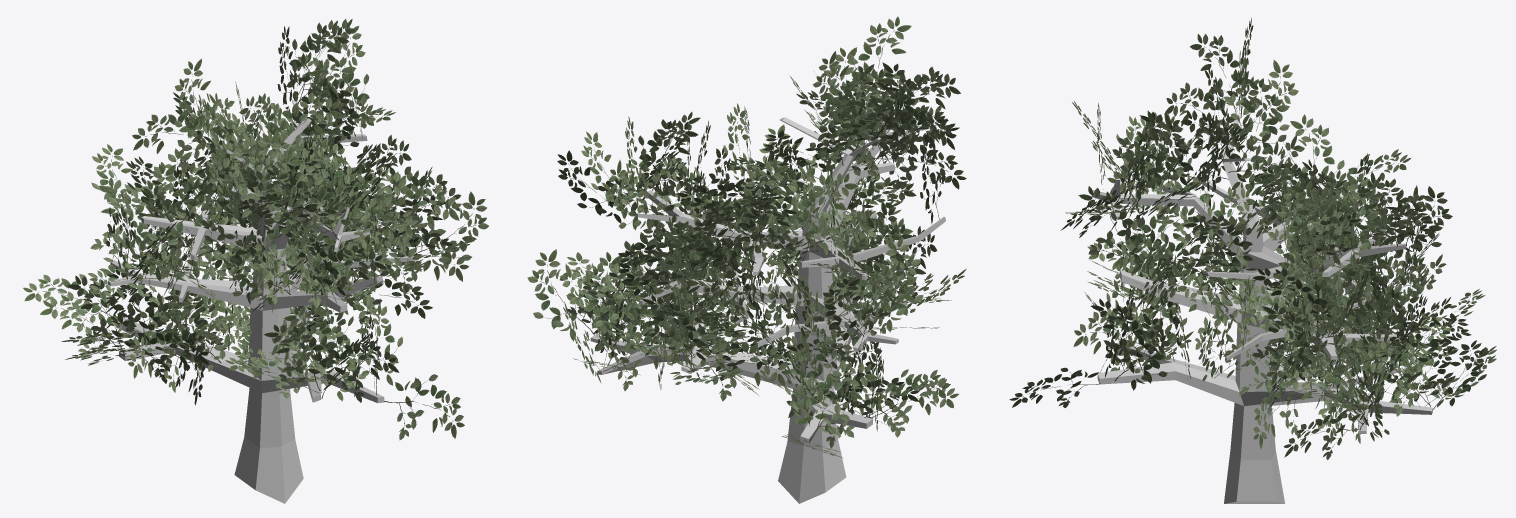
File: tree4GProps.fbx
3 renders of one model, left to right at view 1: azimuth 30°, elevation 25°; view 2: azimuth 150°, elevation 25°; view 3: azimuth 270°, elevation 25°, orthographic.
Parts seen in each view (by area): view 1: Cube.042, Cube.042|Empty.001|Dupli|158, Cube.042|Empty.001|Dupli|120, Cube.042|Empty.001|Dupli|165, Cube.042|Empty.001|Dupli|152, Cube.042|Empty.001|Dupli|56, Cube.042|Empty.001|Dupli|112, Cube.042|Empty.001|Dupli|162, Cube.042|Empty.001|Dupli|19, Cube.042|Empty.001|Dupli|212, Cube.042|Empty.001|Dupli|123, Cube.042|Empty.001|Dupli|51 (+64 smaller); view 2: Cube.042, Cube.042|Empty.001|Dupli|132, Cube.042|Empty.001|Dupli|210, Cube.042|Empty.001|Dupli|204, Cube.042|Empty.001|Dupli|74, Cube.042|Empty.001|Dupli|189, Cube.042|Empty.001|Dupli|149, Cube.042|Empty.001|Dupli|159, Cube.042|Empty.001|Dupli|148, Cube.042|Empty.001|Dupli|180, Cube.042|Empty.001|Dupli|125, Cube.042|Empty.001|Dupli|169 (+72 smaller); view 3: Cube.042, Cube.042|Empty.001|Dupli|171, Cube.042|Empty.001|Dupli|111, Cube.042|Empty.001|Dupli|173, Cube.042|Empty.001|Dupli|161, Cube.042|Empty.001|Dupli|122, Cube.042|Empty.001|Dupli|116, Cube.042|Empty.001|Dupli|81, Cube.042|Empty.001|Dupli|166, Cube.042|Empty.001|Dupli|164, Cube.042|Empty.001|Dupli|174, Cube.042|Empty.001|Dupli|195 (+57 smaller).
Part boxes in pixels (x1,y1,x2,y2): Cube.042: (107,100,418,503); Cube.042|Empty.001|Dupli|158: (366,179,461,254); Cube.042|Empty.001|Dupli|120: (384,374,464,440); Cube.042|Empty.001|Dupli|165: (132,105,221,173); Cube.042|Empty.001|Dupli|152: (412,191,488,271); Cube.042|Empty.001|Dupli|56: (263,324,337,392); Cube.042|Empty.001|Dupli|112: (277,178,351,248); Cube.042|Empty.001|Dupli|162: (263,92,344,170); Cube.042|Empty.001|Dupli|19: (140,211,225,277); Cube.042|Empty.001|Dupli|212: (197,205,277,268); Cube.042|Empty.001|Dupli|123: (347,296,402,395); Cube.042|Empty.001|Dupli|51: (40,291,130,358); Cube.042: (590,110,945,503); Cube.042|Empty.001|Dupli|132: (796,360,878,442); Cube.042|Empty.001|Dupli|210: (789,173,858,261); Cube.042|Empty.001|Dupli|204: (693,332,791,401); Cube.042|Empty.001|Dupli|74: (849,238,923,332); Cube.042|Empty.001|Dupli|189: (527,249,600,341); Cube.042|Empty.001|Dupli|149: (559,263,639,326); Cube.042|Empty.001|Dupli|159: (854,62,920,142); Cube.042|Empty.001|Dupli|148: (624,214,687,296); Cube.042|Empty.001|Dupli|180: (729,158,798,256); Cube.042|Empty.001|Dupli|125: (864,369,950,432); Cube.042|Empty.001|Dupli|169: (607,159,662,231); Cube.042: (1091,115,1432,503); Cube.042|Empty.001|Dupli|171: (1288,178,1348,271); Cube.042|Empty.001|Dupli|111: (1117,113,1188,191); Cube.042|Empty.001|Dupli|173: (1311,173,1385,267); Cube.042|Empty.001|Dupli|161: (1217,78,1286,170); Cube.042|Empty.001|Dupli|122: (1103,312,1170,390); Cube.042|Empty.001|Dupli|116: (1078,186,1143,272); Cube.042|Empty.001|Dupli|81: (1278,254,1343,340); Cube.042|Empty.001|Dupli|166: (1223,60,1298,149); Cube.042|Empty.001|Dupli|164: (1190,33,1248,121); Cube.042|Empty.001|Dupli|174: (1131,234,1212,297); Cube.042|Empty.001|Dupli|195: (1361,340,1433,416).
Size of the model in its own units: 8435 by 9047 by 9016.
